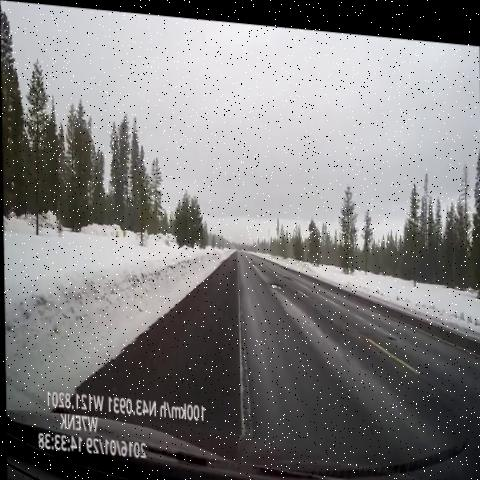pothole: (263, 273, 289, 297), (276, 262, 298, 282), (378, 324, 402, 342), (246, 255, 261, 271)
